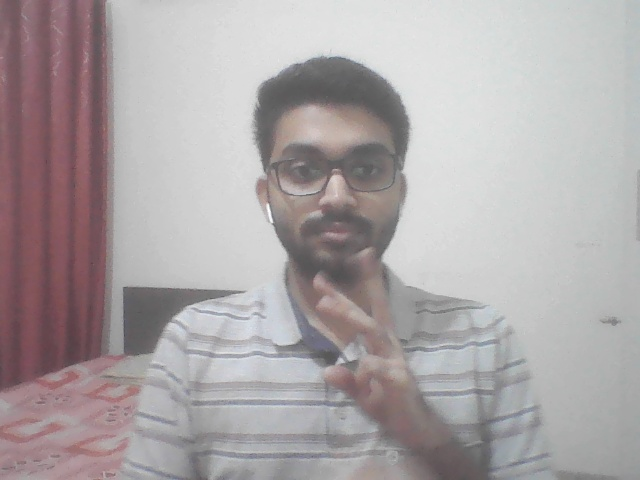water: (290, 242, 436, 435)
